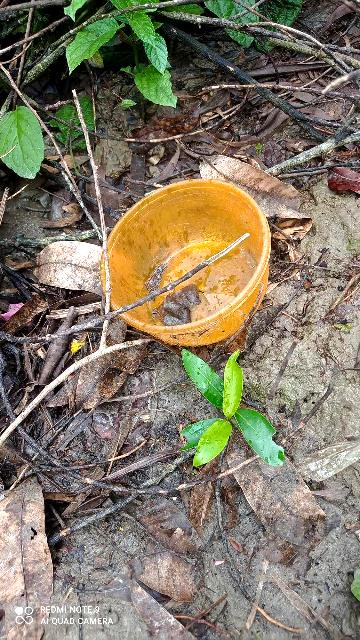hardplastic: (102, 183, 281, 349)
